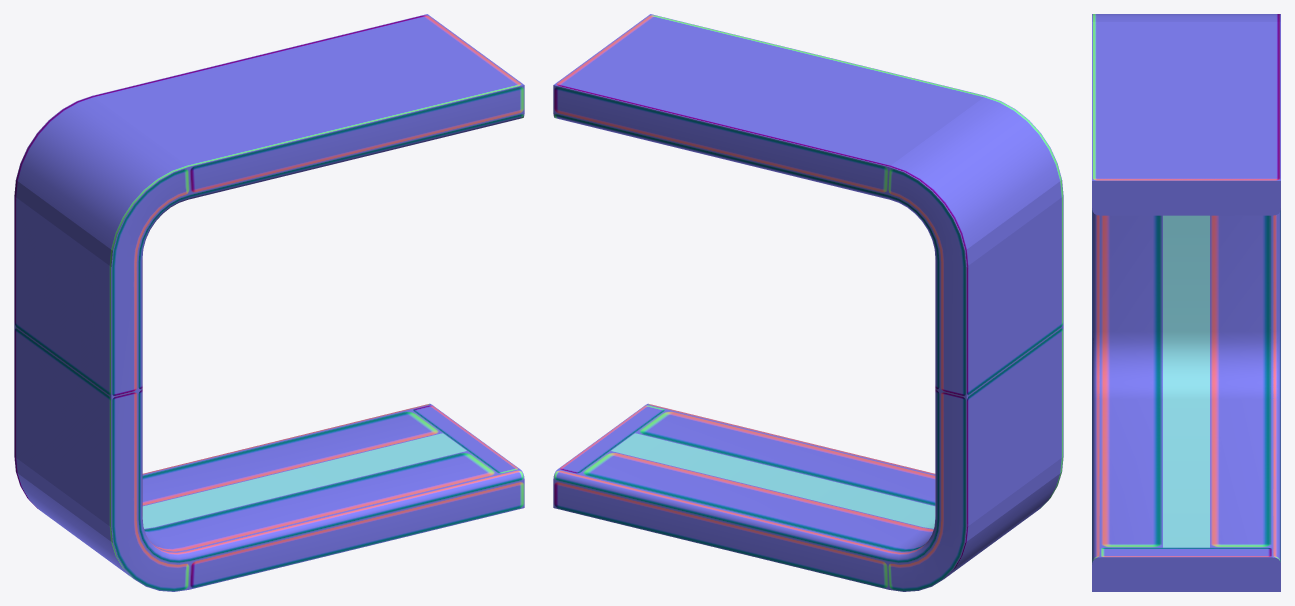
The model's file is Doorway_01.FBX.
3 views of the same model, side by side, from view 1: azimuth 30°, elevation 25°; view 2: azimuth 150°, elevation 25°; view 3: azimuth 270°, elevation 25° (orthographic). The views are drawn at different scales.
Visible parts, largest first — view 1: Dorway_01, Neon_01; view 2: Dorway_01, Neon_01; view 3: Dorway_01, Neon_01.
Part boxes in pixels (x1,y1,x2,y2): Dorway_01: (14,14,524,591); Neon_01: (142,433,466,528); Dorway_01: (553,14,1063,591); Neon_01: (611,433,935,528); Dorway_01: (1092,14,1280,591); Neon_01: (1163,215,1209,547).
Bounding box in the file's own units: 4.91 × 4.8 × 2.
Materials: 2 (1 with a texture image).
